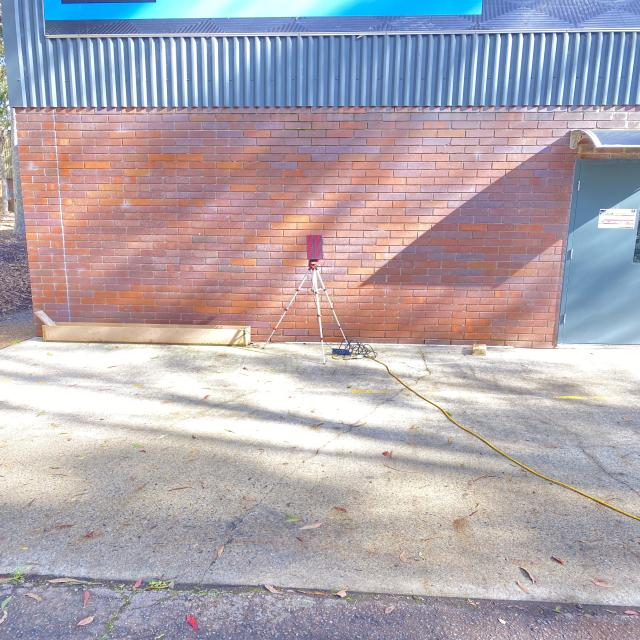matrix: (304, 233, 324, 260)
